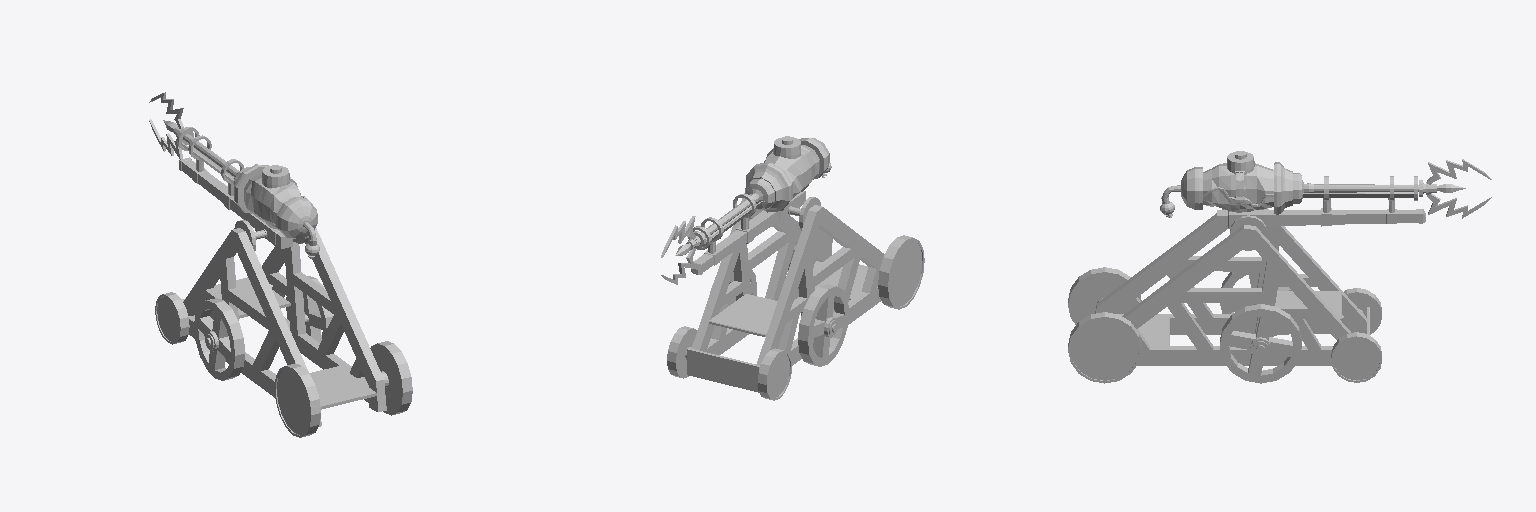
The model's file is desintegrador_de_Drorania.obj.
3 views of the same model, side by side, from view 1: azimuth 30°, elevation 25°; view 2: azimuth 150°, elevation 25°; view 3: azimuth 270°, elevation 25° (orthographic).
Parts seen in each view (by area): view 1: Cone.036; view 2: Cone.036; view 3: Cone.036.
Boxes of the visible parts, x1=… form: Cone.036: x1=149, y1=92, x2=412, y2=437; Cone.036: x1=661, y1=136, x2=924, y2=400; Cone.036: x1=1068, y1=151, x2=1491, y2=383.
Bounding box in the file's own units: 3.12 × 5.27 × 9.86.